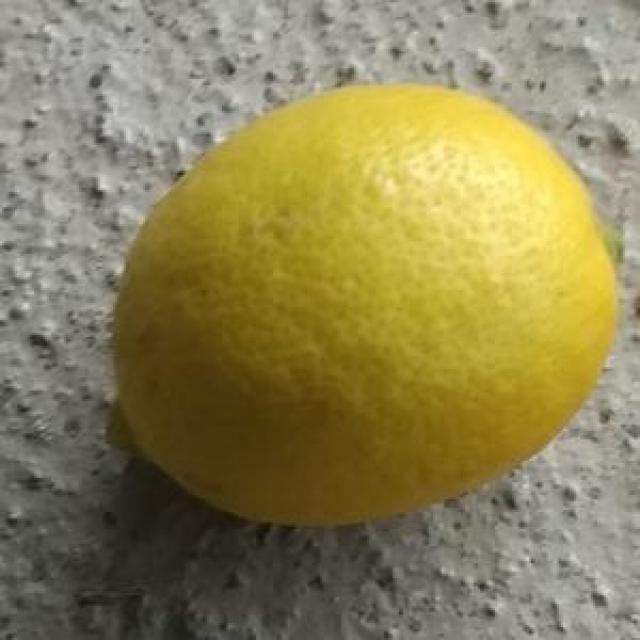lemon: (106, 72, 624, 520)
